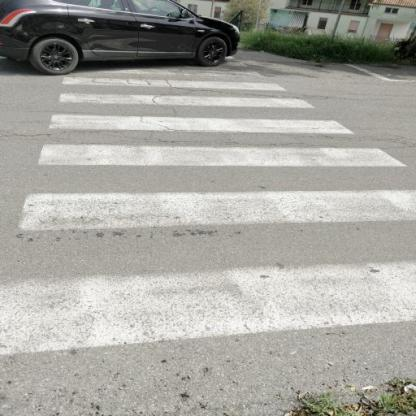crosswalk: (1, 182, 415, 366), (28, 112, 412, 170)
